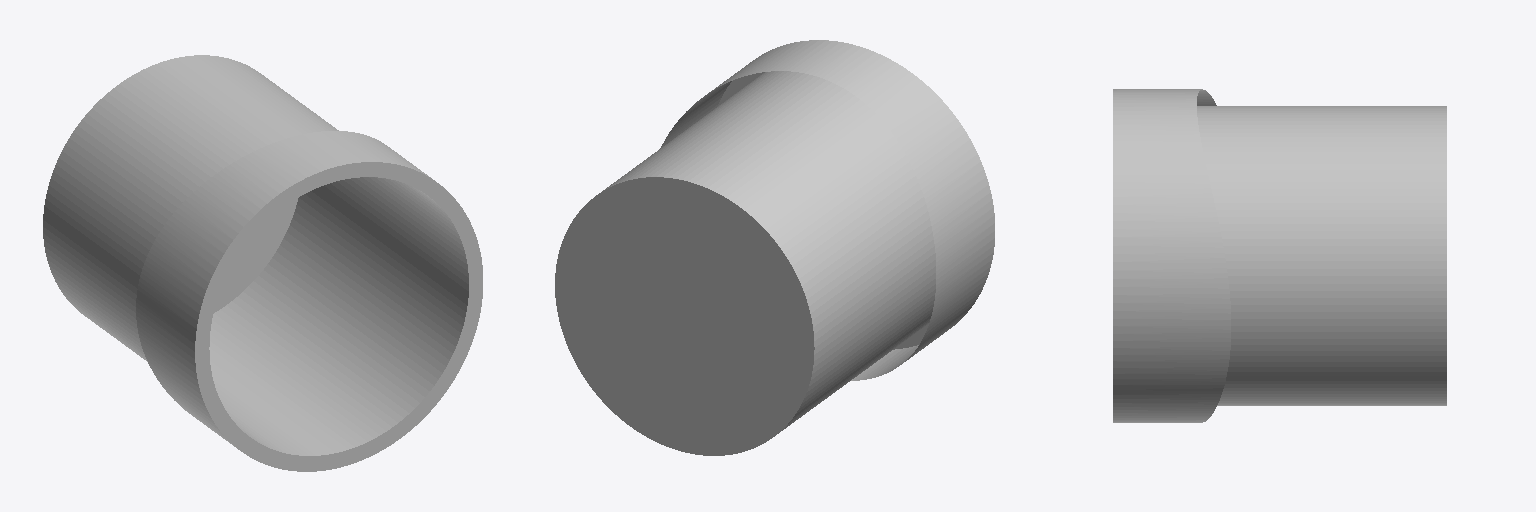
Rendered from filter_inlet_pipe.obj.
3 renders of one model, left to right at view 1: azimuth 30°, elevation 25°; view 2: azimuth 150°, elevation 25°; view 3: azimuth 270°, elevation 25°, orthographic.
Parts seen in each view (by area): view 1: obj1; view 2: obj1; view 3: obj1.
Boxes of the visible parts, x1,y1,x2,y2 form: obj1: [43, 55, 482, 471]; obj1: [555, 40, 994, 455]; obj1: [1113, 89, 1446, 422].
Bounding box in the file's own units: 2 × 2 × 2.